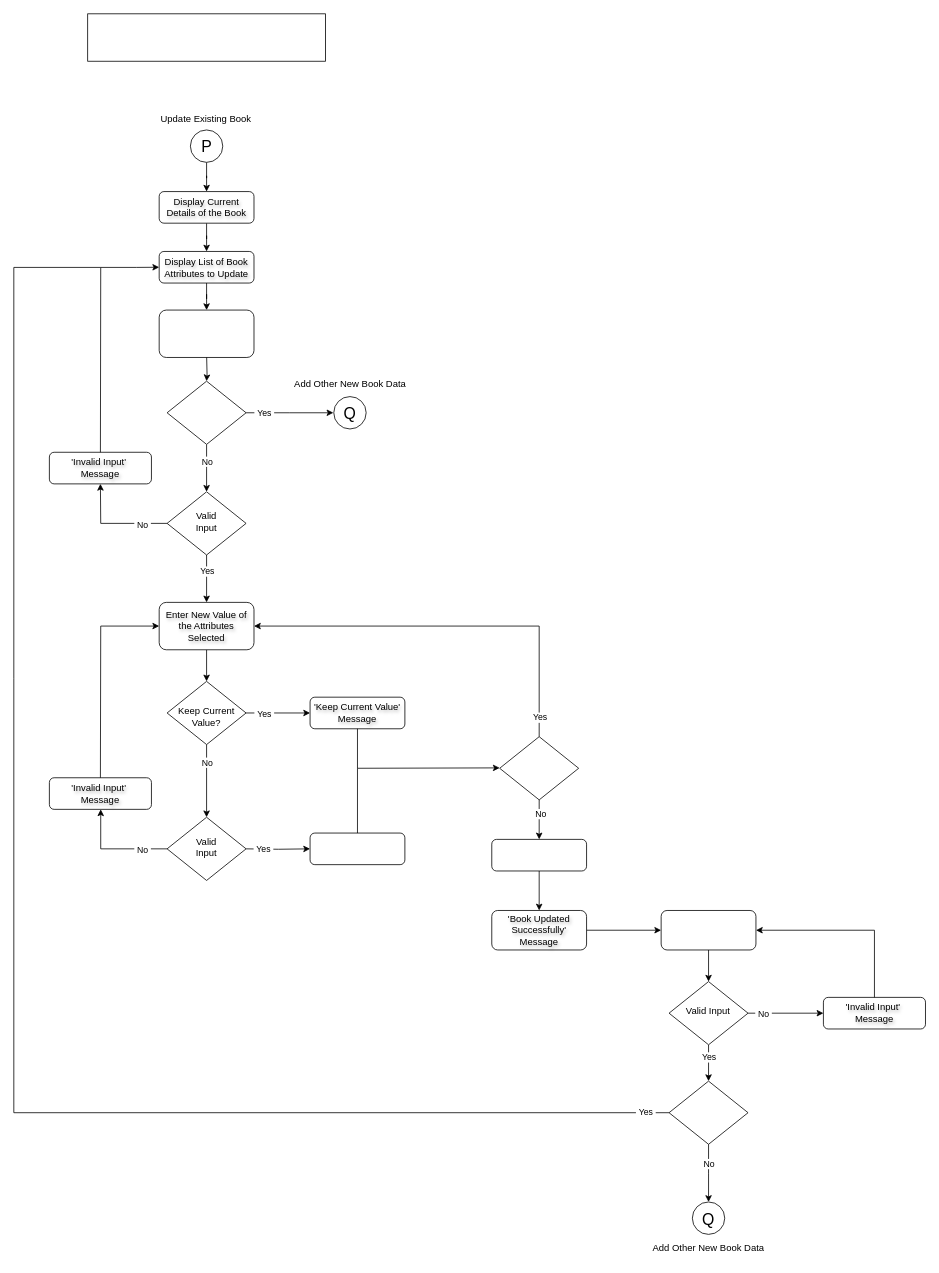
This 939x1273 diagram has some shape labels left out. The shapes that lost their labels are listed below. From the top down, each one's box as (x1, y1, x2, y2) in pixels, then its label:
(87, 13, 325, 61): ADMIN UPDATE EXIST BOOK
(158, 309, 254, 357): Enter Index Numbers of the Attributes to Update
(166, 380, 246, 444): Cancel
(499, 736, 579, 800): Multiple Attribute?
(309, 832, 405, 865): 'Attribute Value Updated' Message
(491, 839, 587, 871): Display Updated Book Details
(660, 910, 756, 950): Ask if the User Wants to Update Again the Book Data
(668, 1080, 748, 1144): Want to Update Again?
